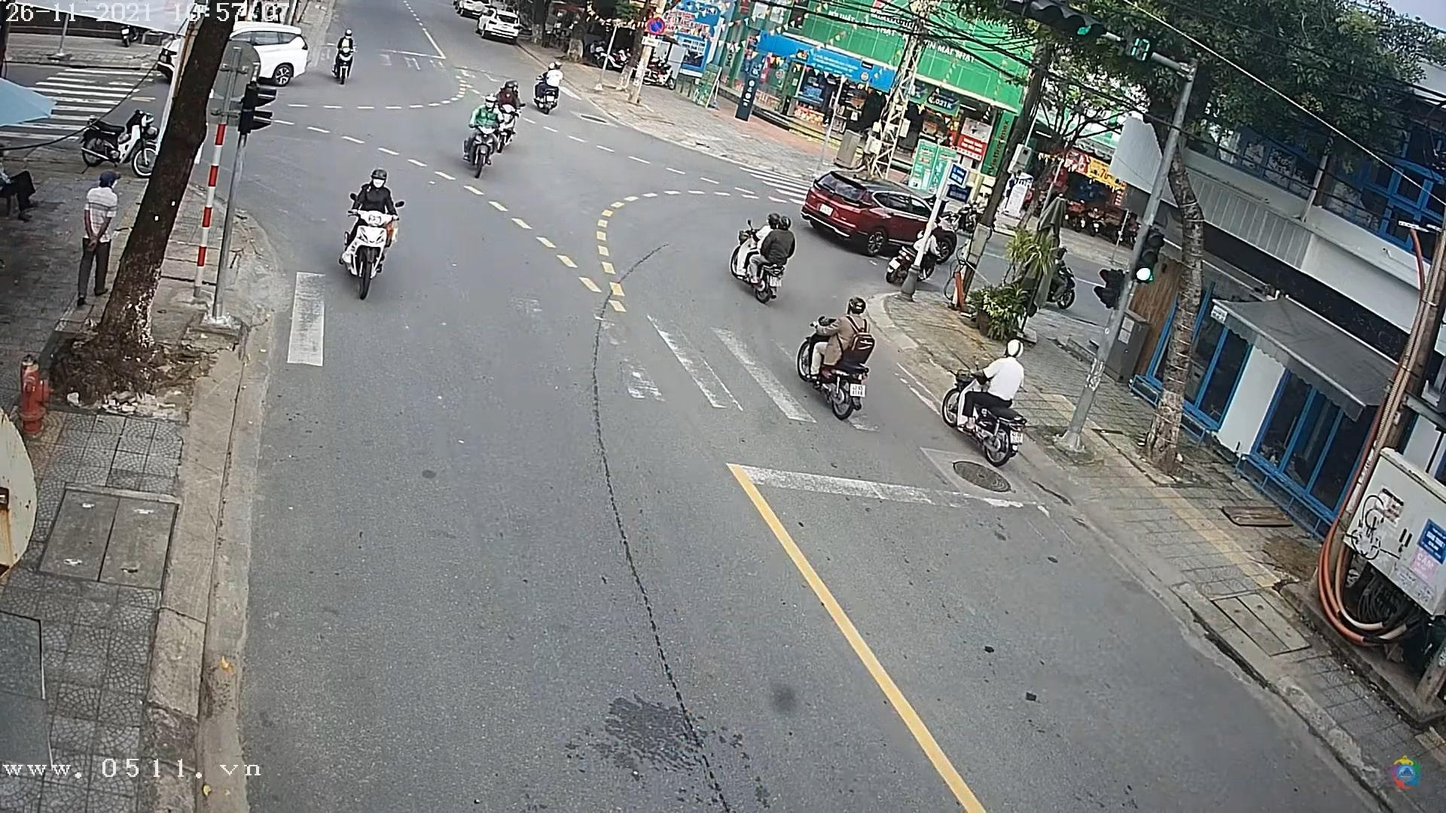car: (804, 169, 933, 252), (230, 26, 314, 82)
motorbike: (942, 361, 1025, 467), (792, 315, 870, 426), (343, 202, 400, 297), (728, 228, 783, 300), (460, 111, 498, 175), (328, 42, 360, 86), (534, 77, 560, 110)
